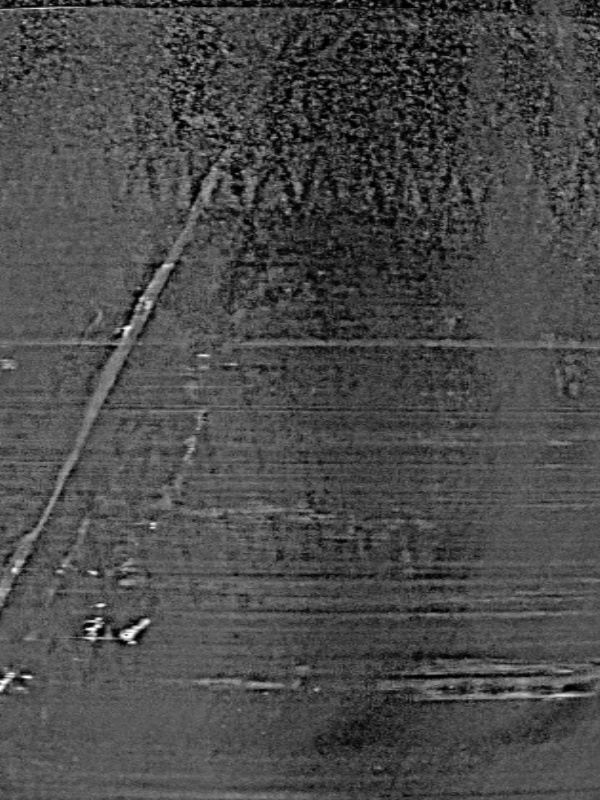splice_vulcanized: (2, 13, 337, 716)
